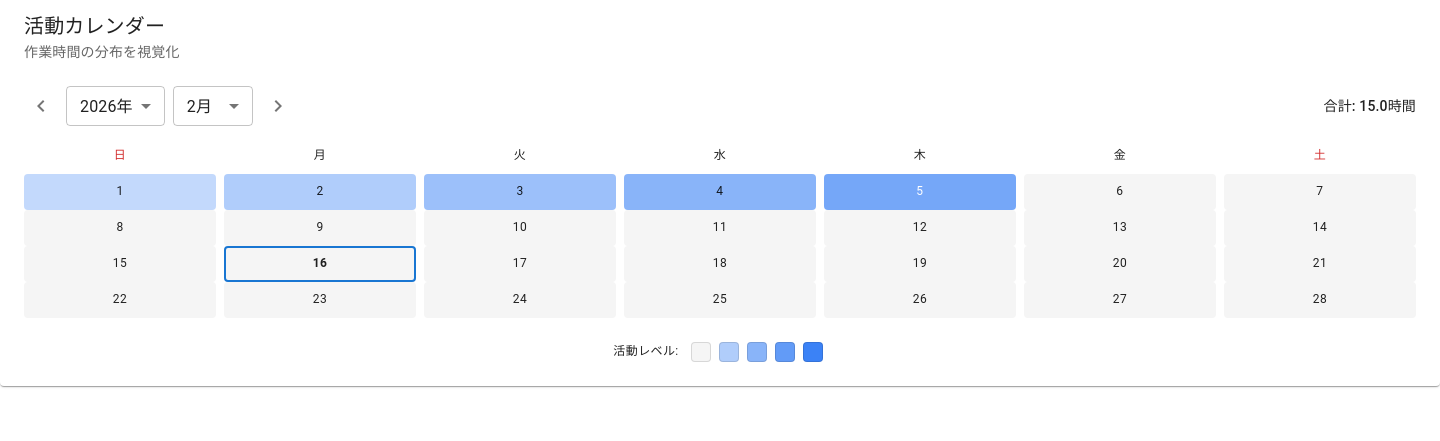
Test case: ActivityCalendar › 年月ナビゲーション › 年跨ぎの前月移動（1月→12月）
Click the button with test id "ChevronLeftIcon": click(41, 106) [24,89,58,123]
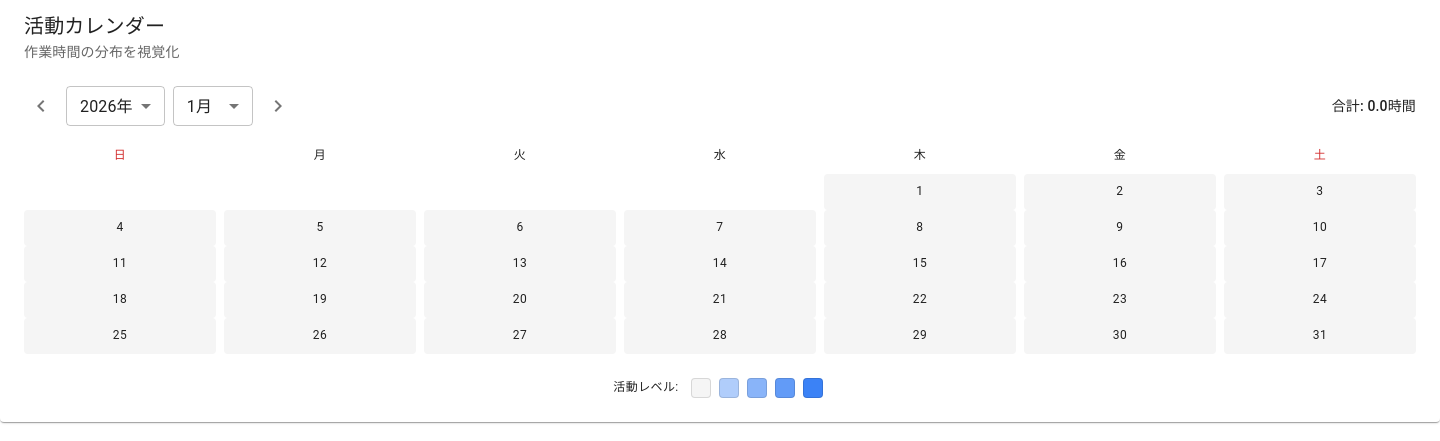
Click the button with test id "ChevronLeftIcon": click(41, 106) [24,89,58,123]
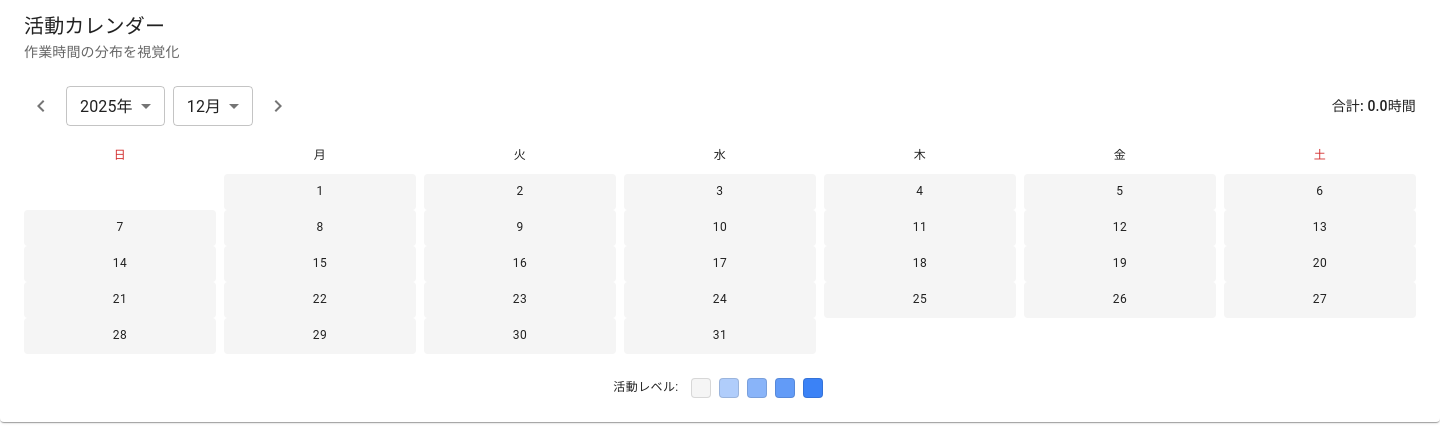
expect the dropdown "12月" is shown: met, box [187,96,221,116]
expect the dropdown "2025年" is shown: met, box [80,96,133,116]
